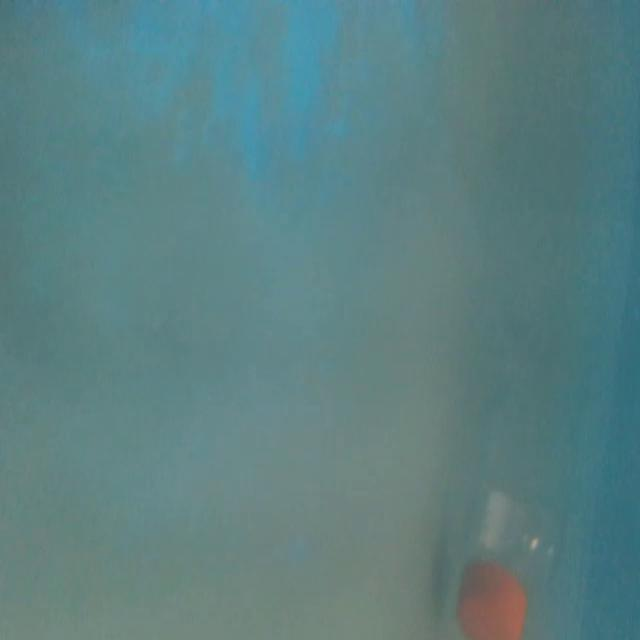plastic bottle: (440, 306, 582, 640)
